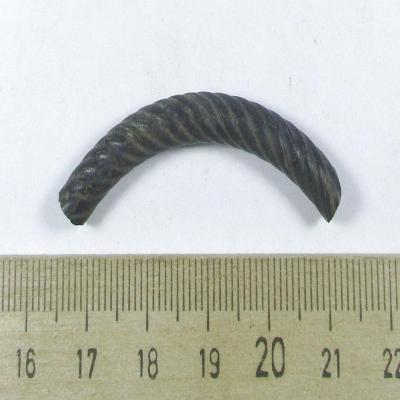archeology: (57, 91, 342, 227)
